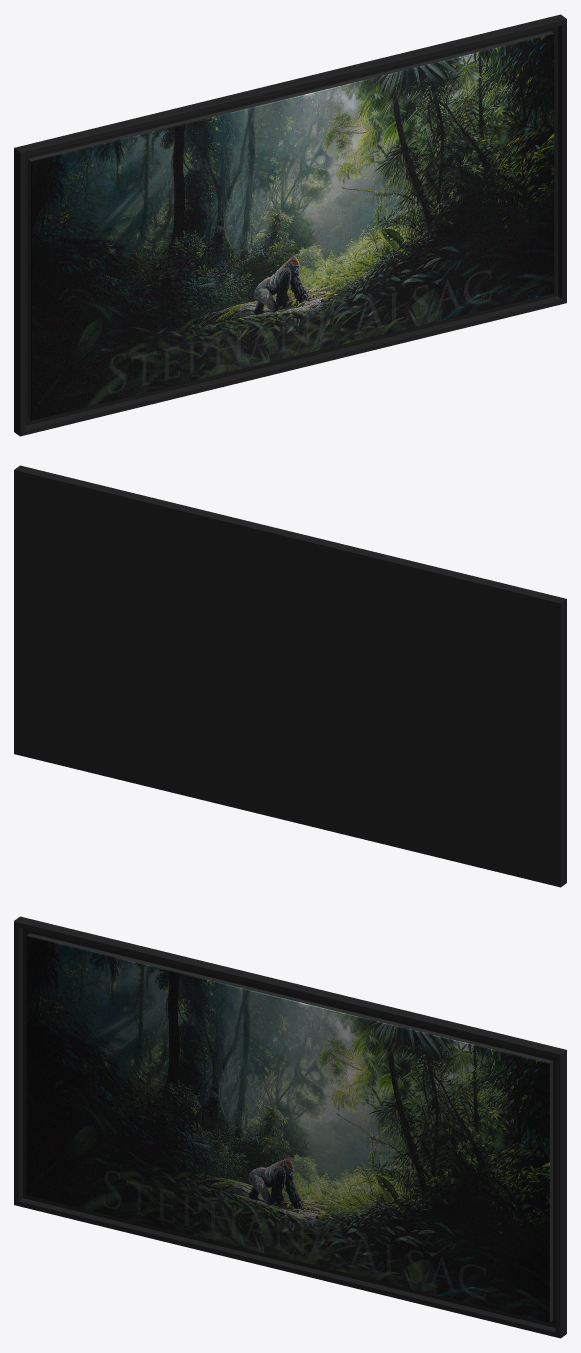
Rendered from tableau-gorille-jungle-geant-510b6820.glb.
The picture shows the model from 3 angles, top to bottom: view 1: azimuth 30°, elevation 25°; view 2: azimuth 150°, elevation 25°; view 3: azimuth 330°, elevation 25°; orthographic projection.
Parts seen in each view (by area): view 1: Painting; view 2: Painting; view 3: Painting.
Boxes of the visible parts, <box> form: Painting: <box>14,14,566,436</box>; Painting: <box>14,465,566,887</box>; Painting: <box>14,916,566,1338</box>.
Size of the model in its own units: 1.99 by 0.986 by 0.04.
4 materials, 2 textured.
